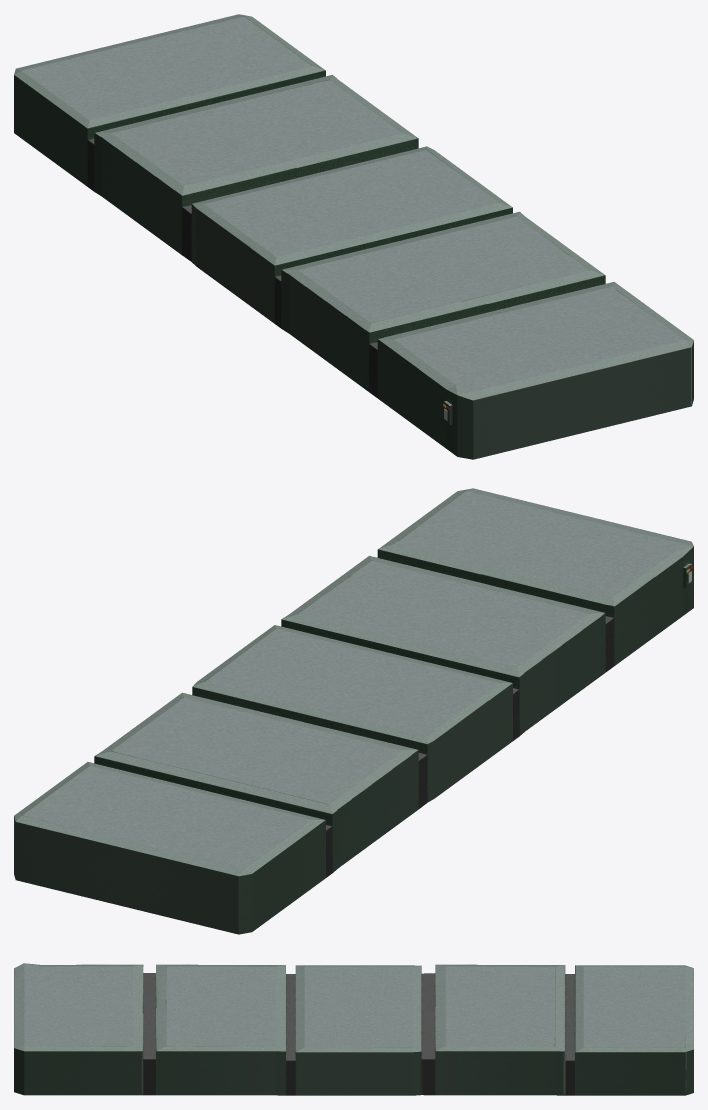
The picture shows the model from 3 angles, top to bottom: view 1: azimuth 30°, elevation 25°; view 2: azimuth 150°, elevation 25°; view 3: azimuth 270°, elevation 25°; orthographic projection. The views are drawn at different scales.
Parts seen in each view (by area): view 1: storageunit; view 2: storageunit; view 3: storageunit.
Part boxes in pixels (<box>): storageunit: <box>14,14,693,459</box>; storageunit: <box>14,488,693,934</box>; storageunit: <box>14,963,693,1095</box>.
Size of the model in its own units: 12.25 by 40.01 by 3.
1 material, 1 textured.
